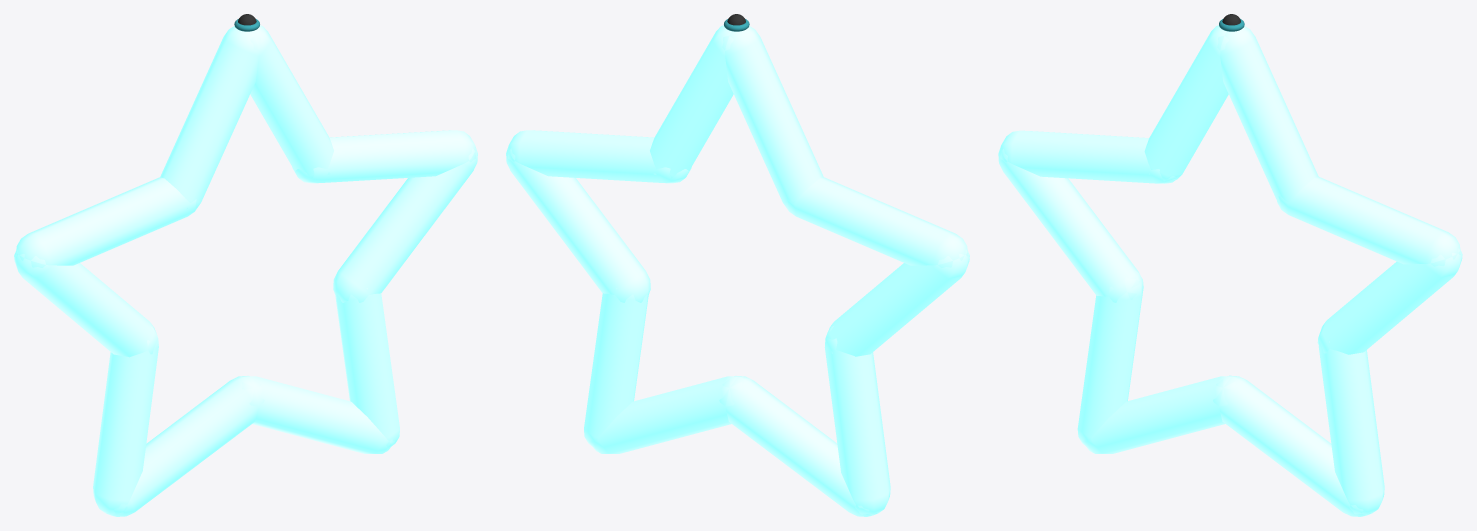
File: tubeStar.gltf
The picture shows the model from 3 angles, left to right: view 1: azimuth 30°, elevation 25°; view 2: azimuth 150°, elevation 25°; view 3: azimuth 330°, elevation 25°; orthographic projection.
Parts seen in each view (by area): view 1: Capsule (×10); view 2: Capsule (×10); view 3: Capsule (×10).
Part boxes in pixels (x1,y1,x2,y2): Capsule (×10): (14, 25, 477, 516); Capsule (×10): (506, 25, 969, 516); Capsule (×10): (998, 25, 1462, 516).
Size of the model in its own units: 3.28 by 3.21 by 0.3016.
